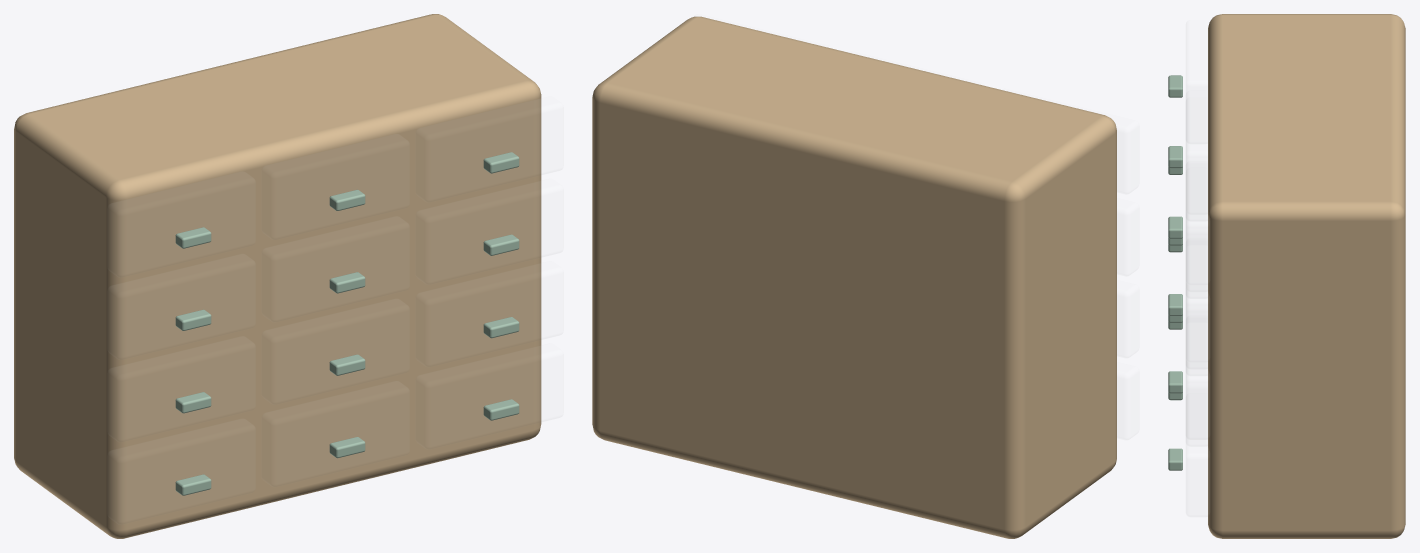
The model's file is hearing-aid-and-audiology-clinic-micro-component-drawe-644edf5c__31758.glb.
3 views of the same model, side by side, from view 1: azimuth 30°, elevation 25°; view 2: azimuth 150°, elevation 25°; view 3: azimuth 270°, elevation 25° (orthographic). The views are drawn at different scales.
Visible parts, largest first — view 1: micro-component-drawer-cabinet; view 2: micro-component-drawer-cabinet; view 3: micro-component-drawer-cabinet.
Boxes of the visible parts, left/top/right/bottom form: micro-component-drawer-cabinet: left=14, top=14, right=541, bottom=538; micro-component-drawer-cabinet: left=592, top=16, right=1116, bottom=538; micro-component-drawer-cabinet: left=1168, top=14, right=1405, bottom=538.
Bounding box in the file's own units: 0.392 × 0.3 × 0.192.
